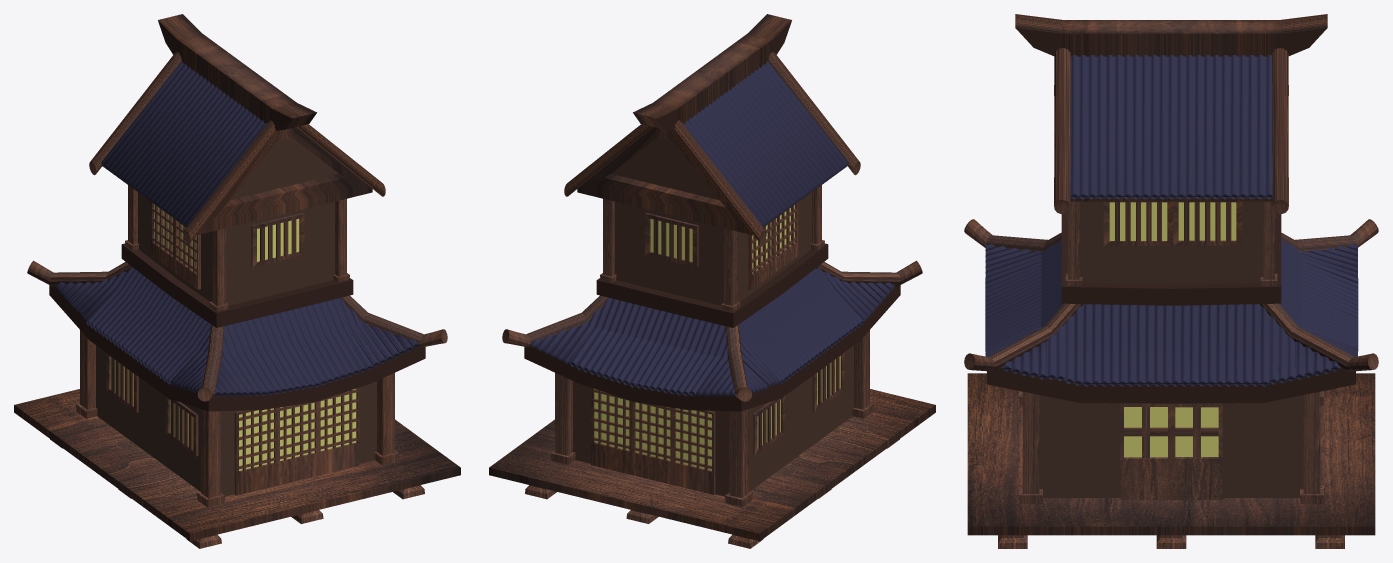
Rendered from Prefeitura.Weeaboo_Textured.fbx.
3 views of the same model, side by side, from view 1: azimuth 30°, elevation 25°; view 2: azimuth 150°, elevation 25°; view 3: azimuth 270°, elevation 25° (orthographic). The views are drawn at different scales.
Parts seen in each view (by area): view 1: House, Platform, Roof Tile.08, Roof Tile.05, Window, Roof Tile.02, Wood, Cilindro.01, Cilindro, Wood.001, Window.2, Window.003 (+4 smaller); view 2: House, Platform, Roof Tile.08, Roof Tile.06, Window.1, Roof Tile.02, Wood, Cilindro.01, Cilindro, Wood.001, Window.003, Window.2 (+4 smaller); view 3: House, Roof Tile.08, Platform, Roof Tile.01, Door, Cilindro, Window.005, Roof Tile.06, Cilindro.01, Roof Tile.05, Wood, Roof Tile.07 (+3 smaller).
Part boxes in pixels (x1,y1,x2,y2): House: (49, 14, 425, 496); Platform: (14, 389, 460, 548); Roof Tile.08: (101, 61, 266, 227); Roof Tile.05: (223, 298, 379, 395); Window: (234, 387, 359, 495); Roof Tile.02: (86, 267, 211, 384); Wood: (76, 330, 398, 507); Cilindro.01: (89, 51, 385, 243); Cilindro: (27, 260, 447, 401); Wood.001: (125, 185, 349, 311); Window.2: (106, 353, 198, 456); Window.003: (150, 202, 200, 289); House: (524, 14, 900, 496); Platform: (489, 389, 935, 548); Roof Tile.08: (683, 61, 848, 226); Roof Tile.06: (569, 297, 726, 396); Window.1: (591, 387, 715, 494); Roof Tile.02: (738, 268, 864, 384); Wood: (551, 330, 873, 507); Cilindro.01: (564, 51, 860, 243); Cilindro: (502, 260, 922, 401); Wood.001: (600, 185, 824, 311); Window.003: (748, 202, 798, 290); Window.2: (753, 352, 844, 455); House: (987, 14, 1355, 497); Roof Tile.08: (1070, 55, 1272, 199); Platform: (967, 373, 1375, 548); Roof Tile.01: (1073, 304, 1268, 386); Door: (1120, 403, 1222, 499); Cilindro: (964, 219, 1378, 371); Window.005: (1103, 201, 1242, 245); Roof Tile.06: (1279, 238, 1358, 350); Cilindro.01: (1054, 48, 1288, 214); Roof Tile.05: (985, 239, 1063, 351); Wood: (1019, 391, 1323, 503); Roof Tile.07: (985, 243, 1357, 356).
Bounding box in the file's own units: 800 × 1130 × 915.
Materials: 5 (2 with a texture image).
